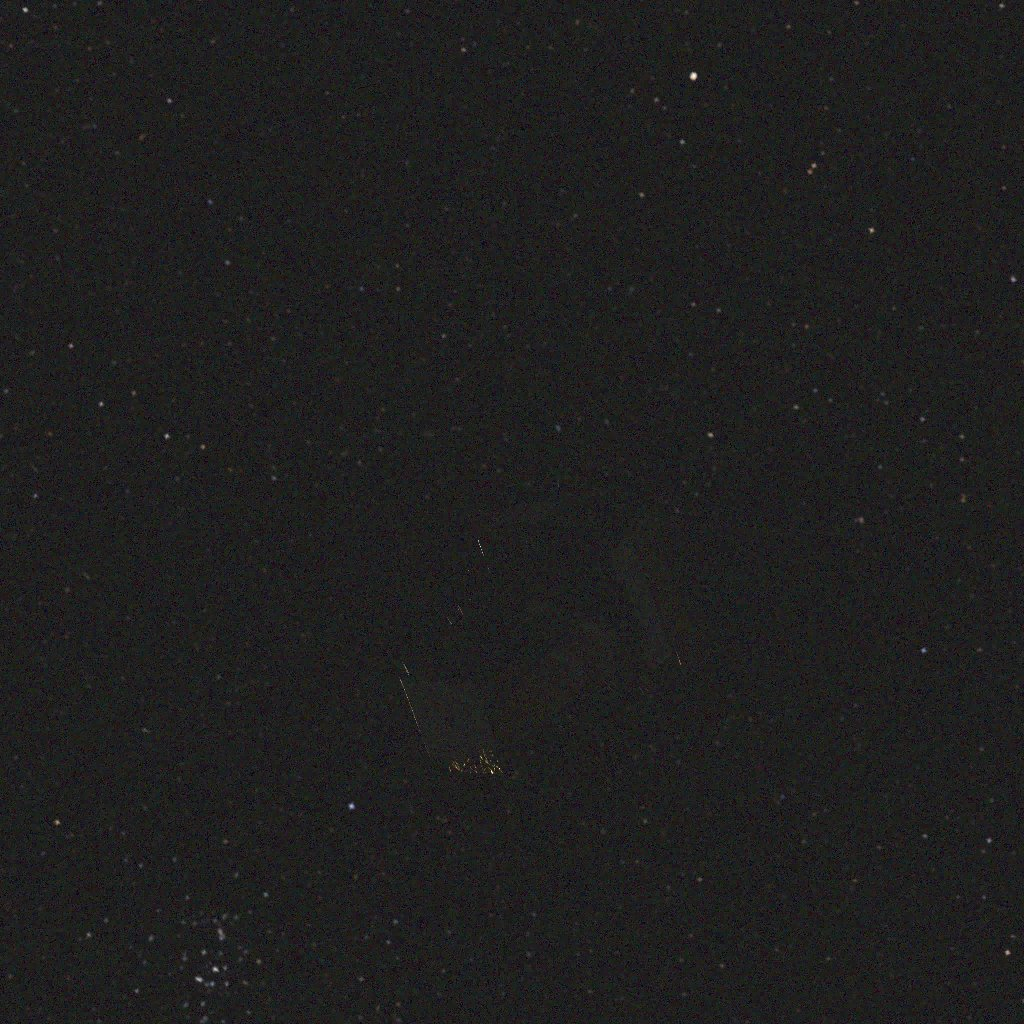soho: (304, 480, 893, 775)
